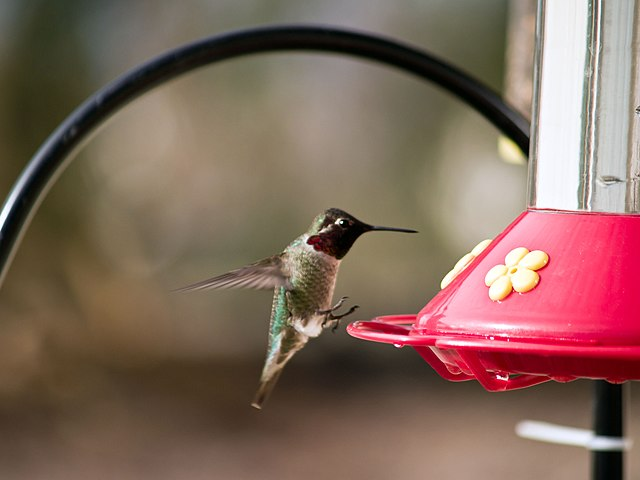calypte anna: (166, 209, 418, 410)
